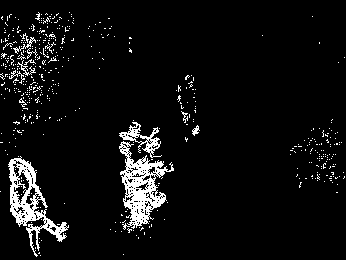person: (6, 161, 69, 252), (176, 75, 200, 142)
